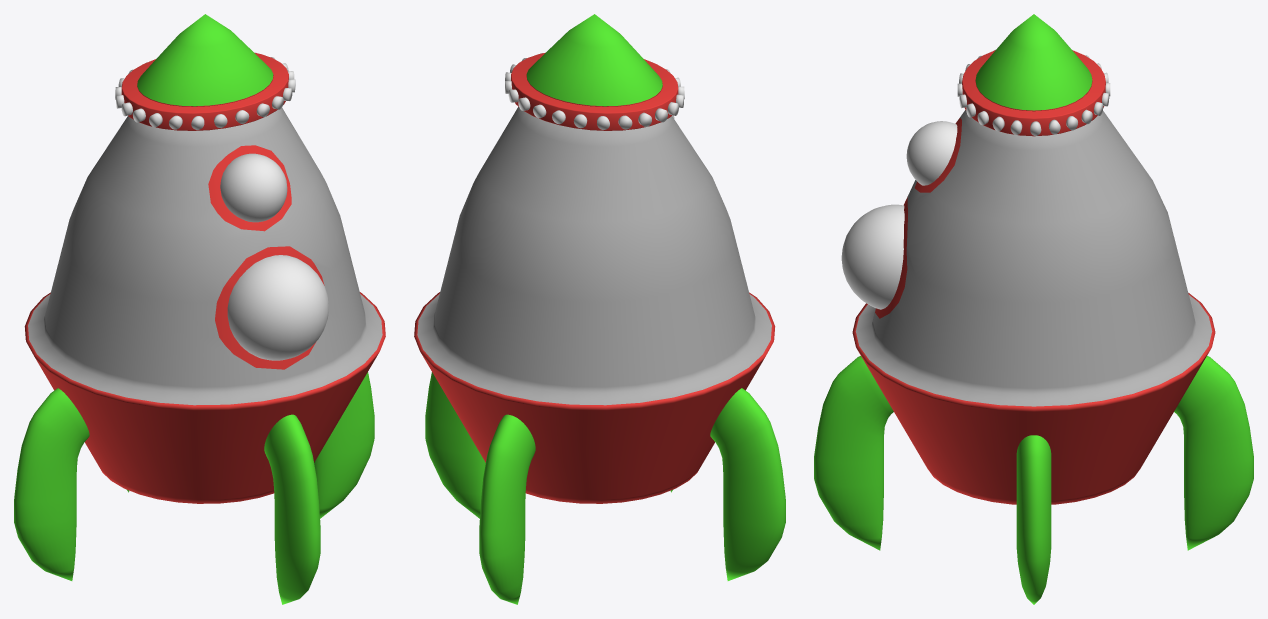
Rendered from low_poly_spaceship1.fbx.
The picture shows the model from 3 angles, left to right: view 1: azimuth 30°, elevation 25°; view 2: azimuth 150°, elevation 25°; view 3: azimuth 270°, elevation 25°; orthographic projection.
Parts seen in each view (by area): view 1: Cylinder, Cylinder.003, Sphere.001, Cylinder.006, Cylinder.001, Sphere, Cylinder.002; view 2: Cylinder, Cylinder.003, Cylinder.004, Cylinder.001, Cylinder.002; view 3: Cylinder, Cylinder.006, Cylinder.004, Cylinder.001, Sphere.001, Sphere, Cylinder.002.
Boxes of the visible parts, x1,y1,x2,y2 form: Cylinder: (24, 14, 385, 503); Cylinder.003: (14, 388, 89, 580); Sphere.001: (227, 255, 328, 360); Cylinder.006: (264, 414, 320, 604); Cylinder.001: (314, 372, 374, 518); Sphere: (220, 153, 287, 222); Cylinder.002: (115, 52, 295, 129); Cylinder: (414, 14, 775, 503); Cylinder.003: (710, 388, 785, 580); Cylinder.004: (479, 414, 535, 604); Cylinder.001: (425, 372, 485, 518); Cylinder.002: (505, 53, 684, 129); Cylinder: (852, 14, 1215, 504); Cylinder.006: (814, 356, 893, 550); Cylinder.004: (1174, 356, 1253, 550); Cylinder.001: (1016, 435, 1051, 604); Sphere.001: (841, 204, 904, 309); Sphere: (906, 121, 957, 185); Cylinder.002: (957, 49, 1110, 135).
Bounding box in the file's own units: 314 × 448 × 333.
